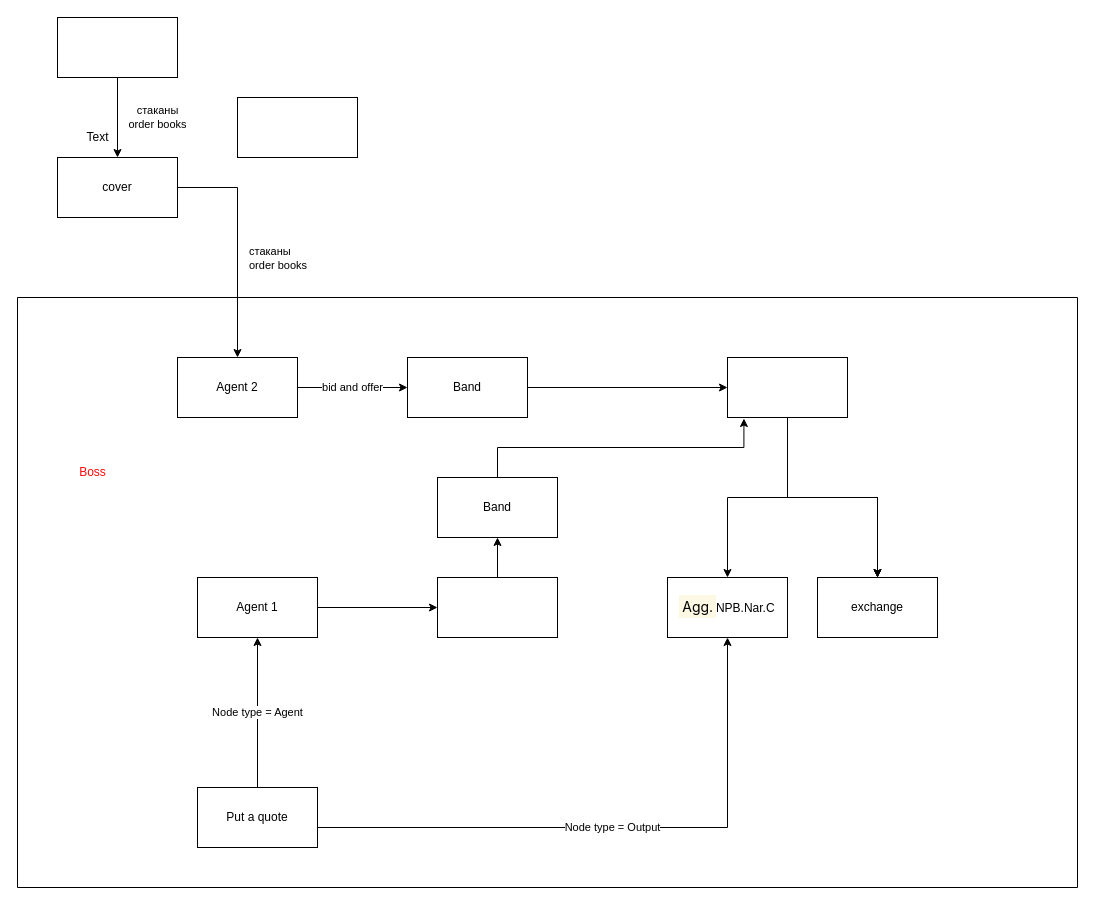
Some shapes in this 1095 by 905 pixel diagram are drawn without their labels. Each missing label, with the centre of its shape:
Aggregator: (x=497, y=607)
Coutnerparty: (x=117, y=47)
FAN: (x=297, y=127)
Groups: (x=787, y=387)
